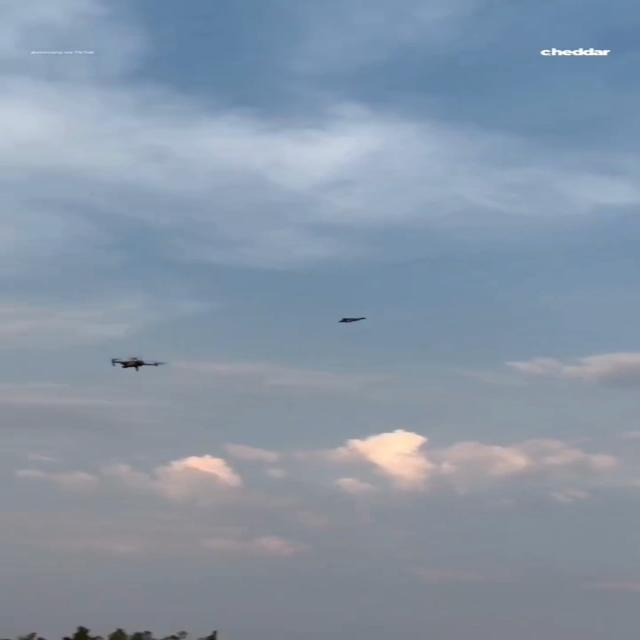bird: (338, 316, 366, 322)
drone: (110, 356, 164, 372)
